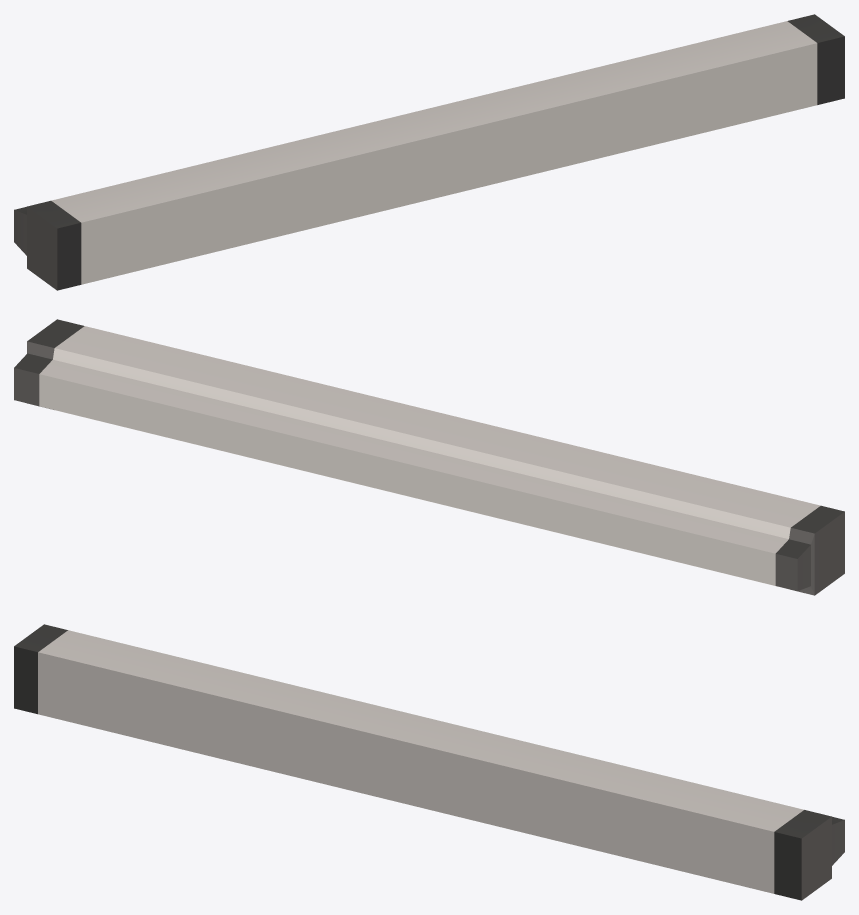
The model's file is FlourescentLight.glb.
3 renders of one model, top to bottom at view 1: azimuth 30°, elevation 25°; view 2: azimuth 150°, elevation 25°; view 3: azimuth 330°, elevation 25°, orthographic.
Parts seen in each view (by area): view 1: SO_FluorescentLight; view 2: SO_FluorescentLight; view 3: SO_FluorescentLight.
Part boxes in pixels (x1=…): SO_FluorescentLight: x1=14, y1=14, x2=844, y2=290; SO_FluorescentLight: x1=14, y1=319, x2=844, y2=595; SO_FluorescentLight: x1=14, y1=624, x2=844, y2=900.
Size of the model in its own units: 3.57 by 0.269 by 0.3558.
Materials: 1 (1 with a texture image).
